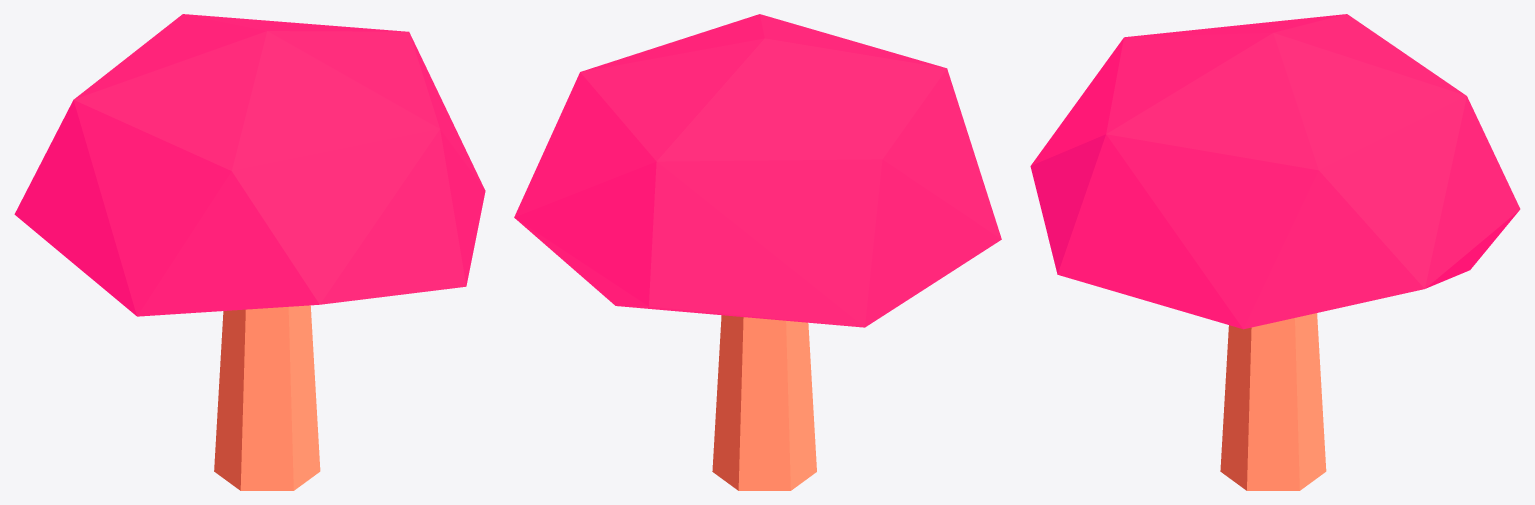
Rendered from mushroom.dae.
3 views of the same model, side by side, from view 1: azimuth 30°, elevation 25°; view 2: azimuth 150°, elevation 25°; view 3: azimuth 270°, elevation 25° (orthographic).
Parts seen in each view (by area): view 1: Icosphere, Cylinder_050; view 2: Icosphere, Cylinder_050; view 3: Icosphere, Cylinder_050.
Part boxes in pixels (x1,y1,x2,y2): Icosphere: (14, 14, 485, 316); Cylinder_050: (214, 305, 320, 490); Icosphere: (514, 14, 1001, 327); Cylinder_050: (712, 315, 816, 490); Icosphere: (1030, 14, 1520, 329); Cylinder_050: (1220, 313, 1326, 490).
Size of the model in its own units: 0.4494 by 0.4924 by 0.4865.
